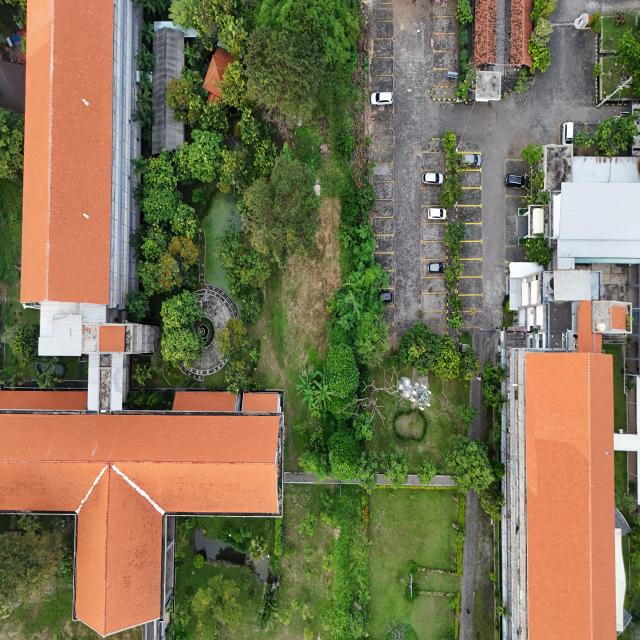Tree: (381, 443, 410, 488), (445, 217, 466, 255), (454, 399, 477, 424), (416, 460, 436, 486), (522, 143, 544, 164), (446, 312, 463, 330), (240, 520, 255, 539), (320, 488, 333, 509), (320, 510, 334, 527), (303, 542, 314, 563), (179, 607, 191, 626), (301, 625, 315, 640), (193, 553, 205, 569), (291, 596, 302, 611), (242, 576, 252, 590)
